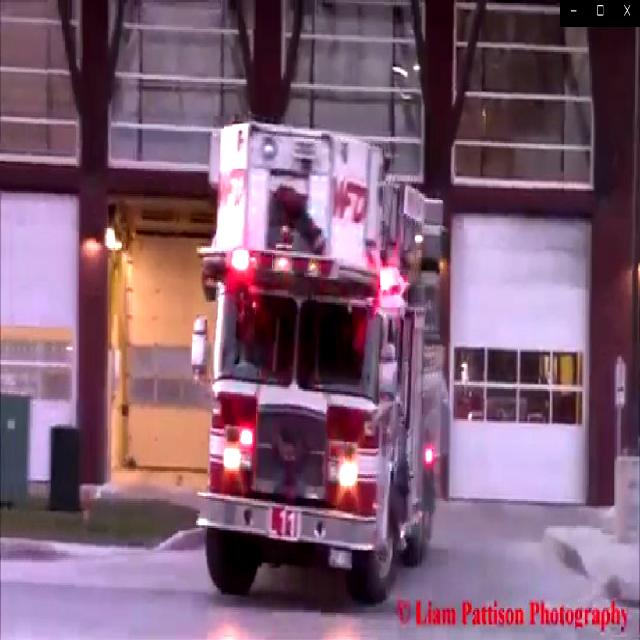emergency: (188, 105, 455, 617)
